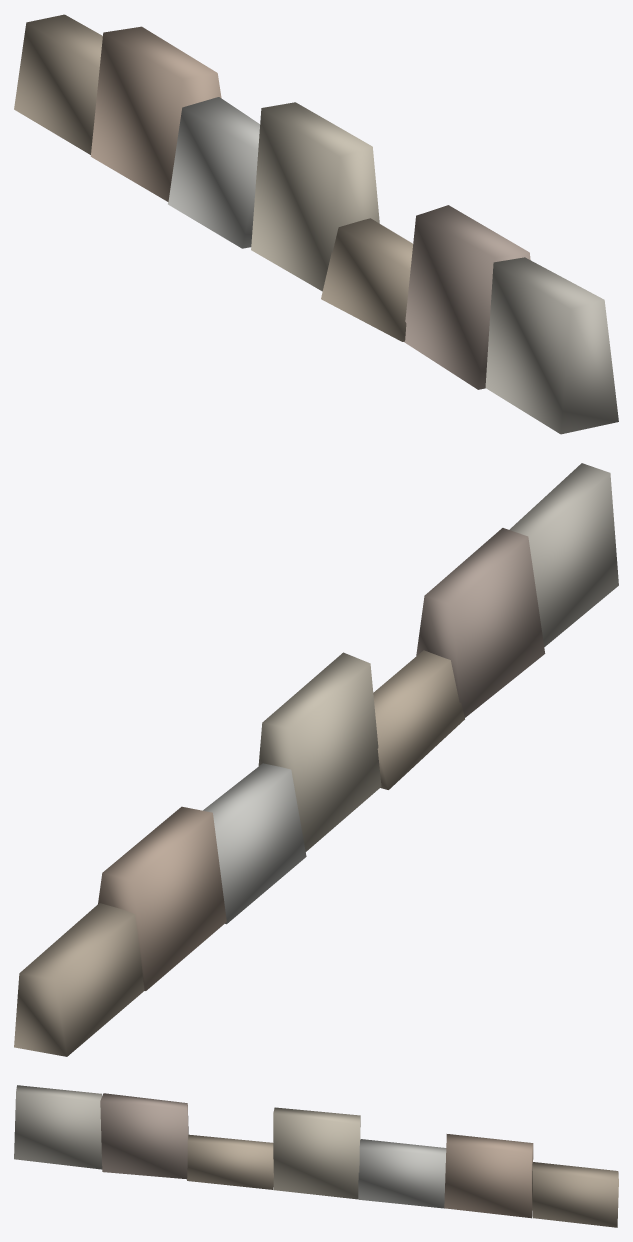
The model's file is farm_-9_4_far.glb.
3 views of the same model, one above another, from view 1: azimuth 30°, elevation 25°; view 2: azimuth 150°, elevation 25°; view 3: azimuth 270°, elevation 25° (orthographic). The views are drawn at different scales.
Parts seen in each view (by area): view 1: geometry_0; view 2: geometry_0; view 3: geometry_0.
Part boxes in pixels (x1,y1,x2,y2): geometry_0: (14,14,618,434); geometry_0: (14,463,618,1056); geometry_0: (14,1085,618,1227).
Size of the model in its own units: 1.03 by 2.48 by 11.08.
